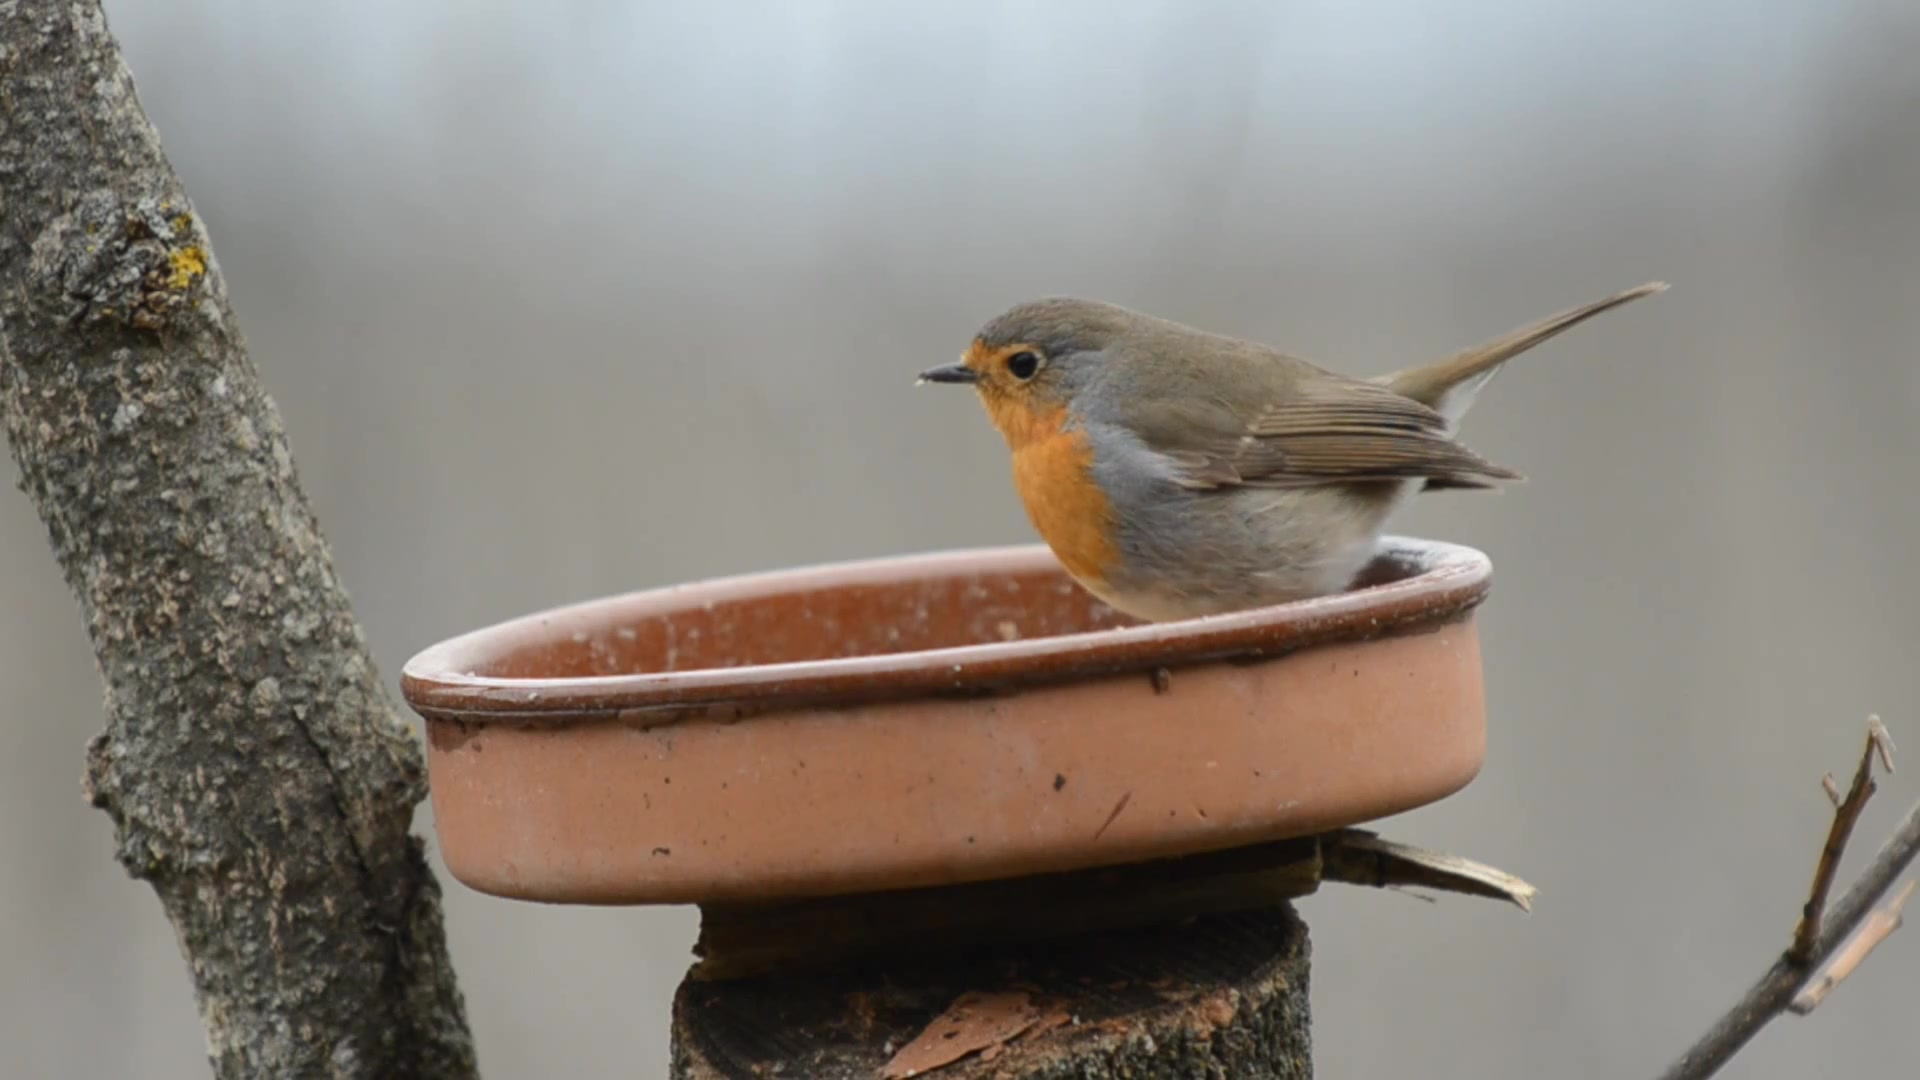bird: (916, 280, 1673, 629)
